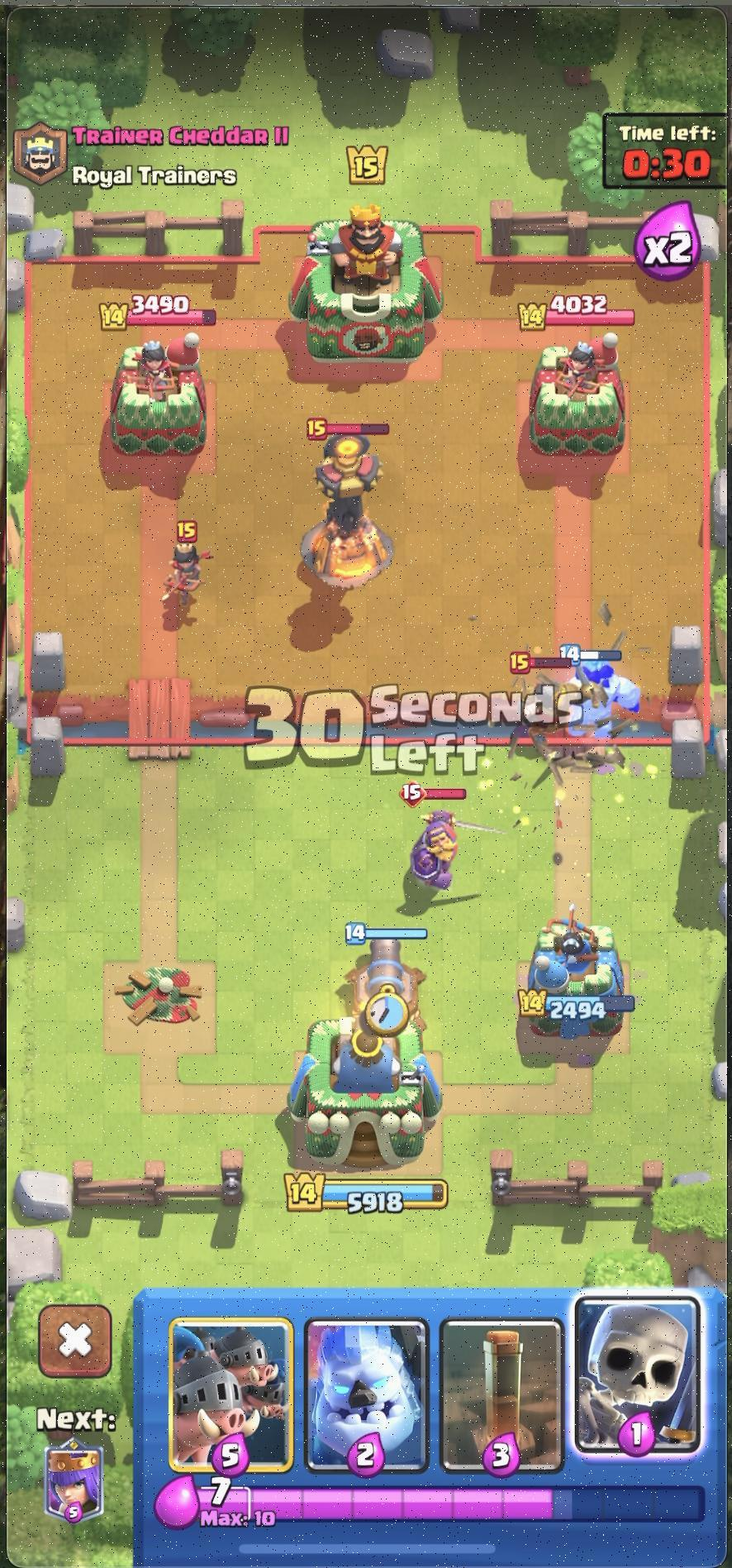card_archerqueen: (42, 1437, 105, 1523)
card_earthquake: (435, 1315, 565, 1477)
card_icegolem: (300, 1313, 428, 1475)
card_royalhogs: (166, 1310, 293, 1475)
card_skeletons: (569, 1290, 709, 1461)
